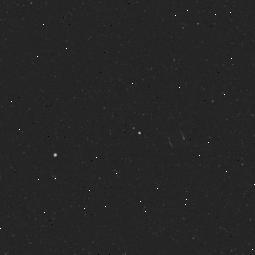debris: (162, 127, 194, 151)
